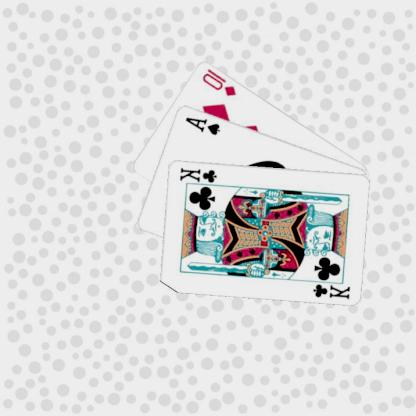10D: (201, 66, 239, 97)
AS: (184, 114, 223, 136)
KC: (308, 276, 353, 300), (179, 165, 222, 188)
